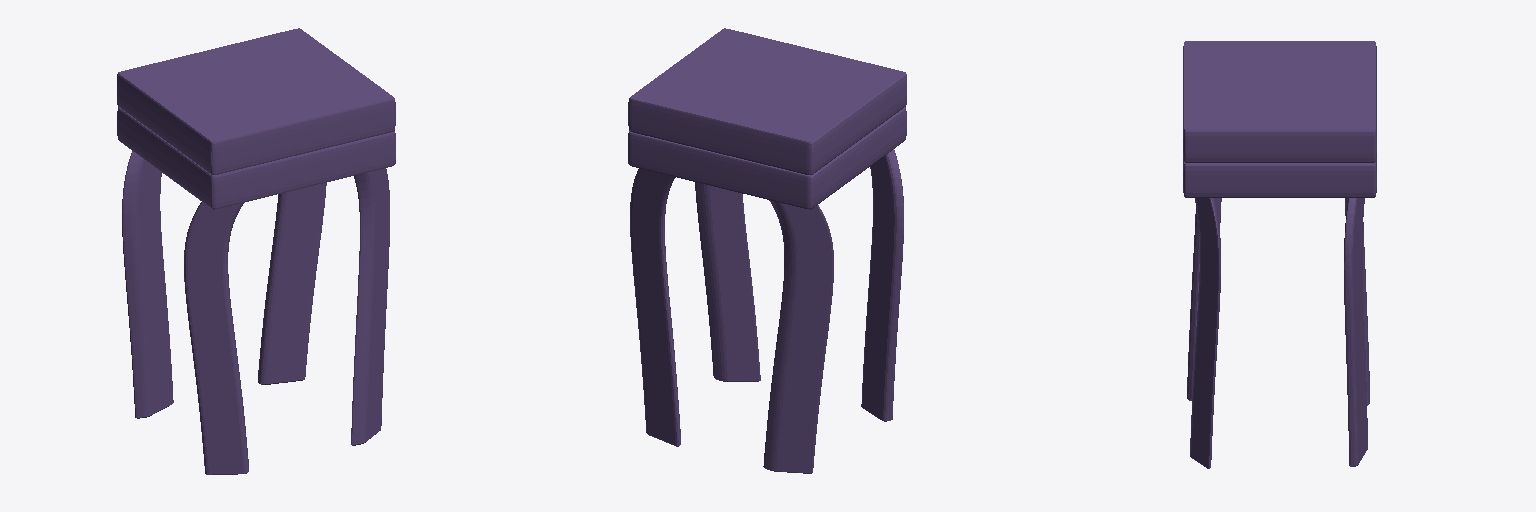
3 views of the same model, side by side, from view 1: azimuth 30°, elevation 25°; view 2: azimuth 150°, elevation 25°; view 3: azimuth 270°, elevation 25° (orthographic).
Parts seen in each view (by area): view 1: polySurface9; view 2: polySurface9; view 3: polySurface9.
Boxes of the visible parts, x1,y1,x2,y2 form: polySurface9: [117, 28, 395, 474]; polySurface9: [628, 28, 906, 473]; polySurface9: [1183, 41, 1376, 468].
Bounding box in the file's own units: 2.23 × 3.5 × 1.8.
1 materials, 1 textured.